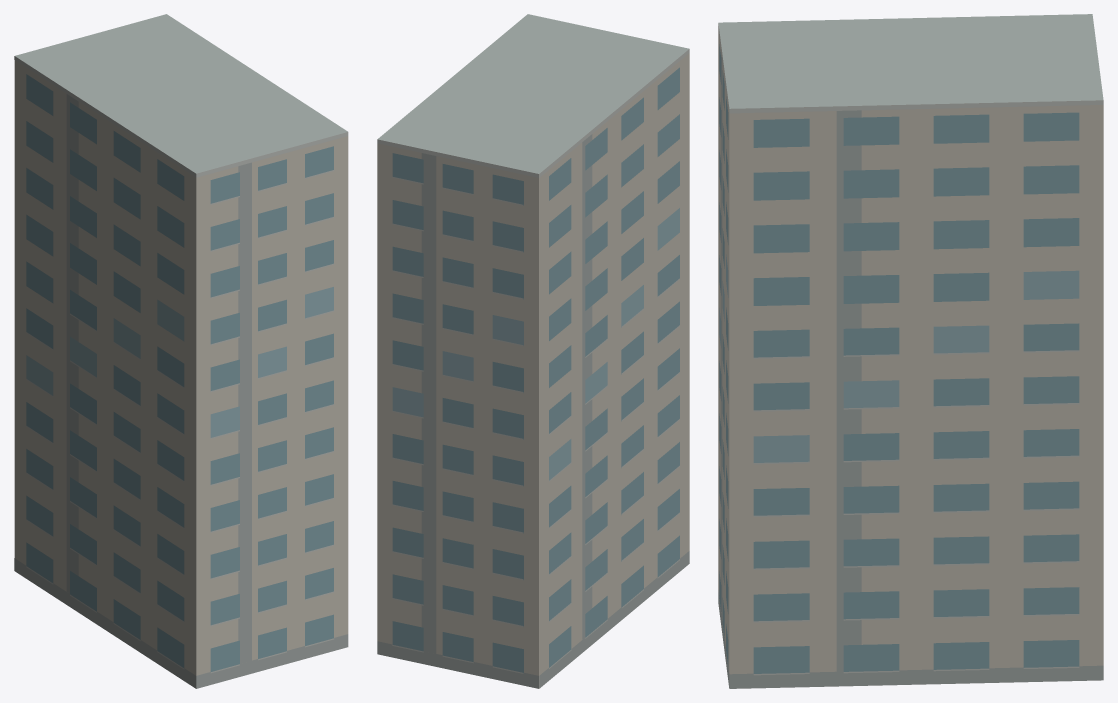
The model's file is residential-84f05826-552e-4acd-bdaa-ed643b6ffafa.glb.
3 renders of one model, left to right at view 1: azimuth 30°, elevation 25°; view 2: azimuth 150°, elevation 25°; view 3: azimuth 270°, elevation 25°, orthographic. The views are drawn at different scales.
Parts seen in each view (by area): view 1: residential-84f05826-552e-4acd-bdaa-ed643b6ffafa.tmp; view 2: residential-84f05826-552e-4acd-bdaa-ed643b6ffafa.tmp; view 3: residential-84f05826-552e-4acd-bdaa-ed643b6ffafa.tmp.
Part boxes in pixels (box(x1,y1,x2,y2)): residential-84f05826-552e-4acd-bdaa-ed643b6ffafa.tmp: box(14, 14, 348, 688); residential-84f05826-552e-4acd-bdaa-ed643b6ffafa.tmp: box(377, 14, 689, 688); residential-84f05826-552e-4acd-bdaa-ed643b6ffafa.tmp: box(718, 14, 1103, 688).
Bounding box in the file's own units: 10.88 × 31 × 18.67.
